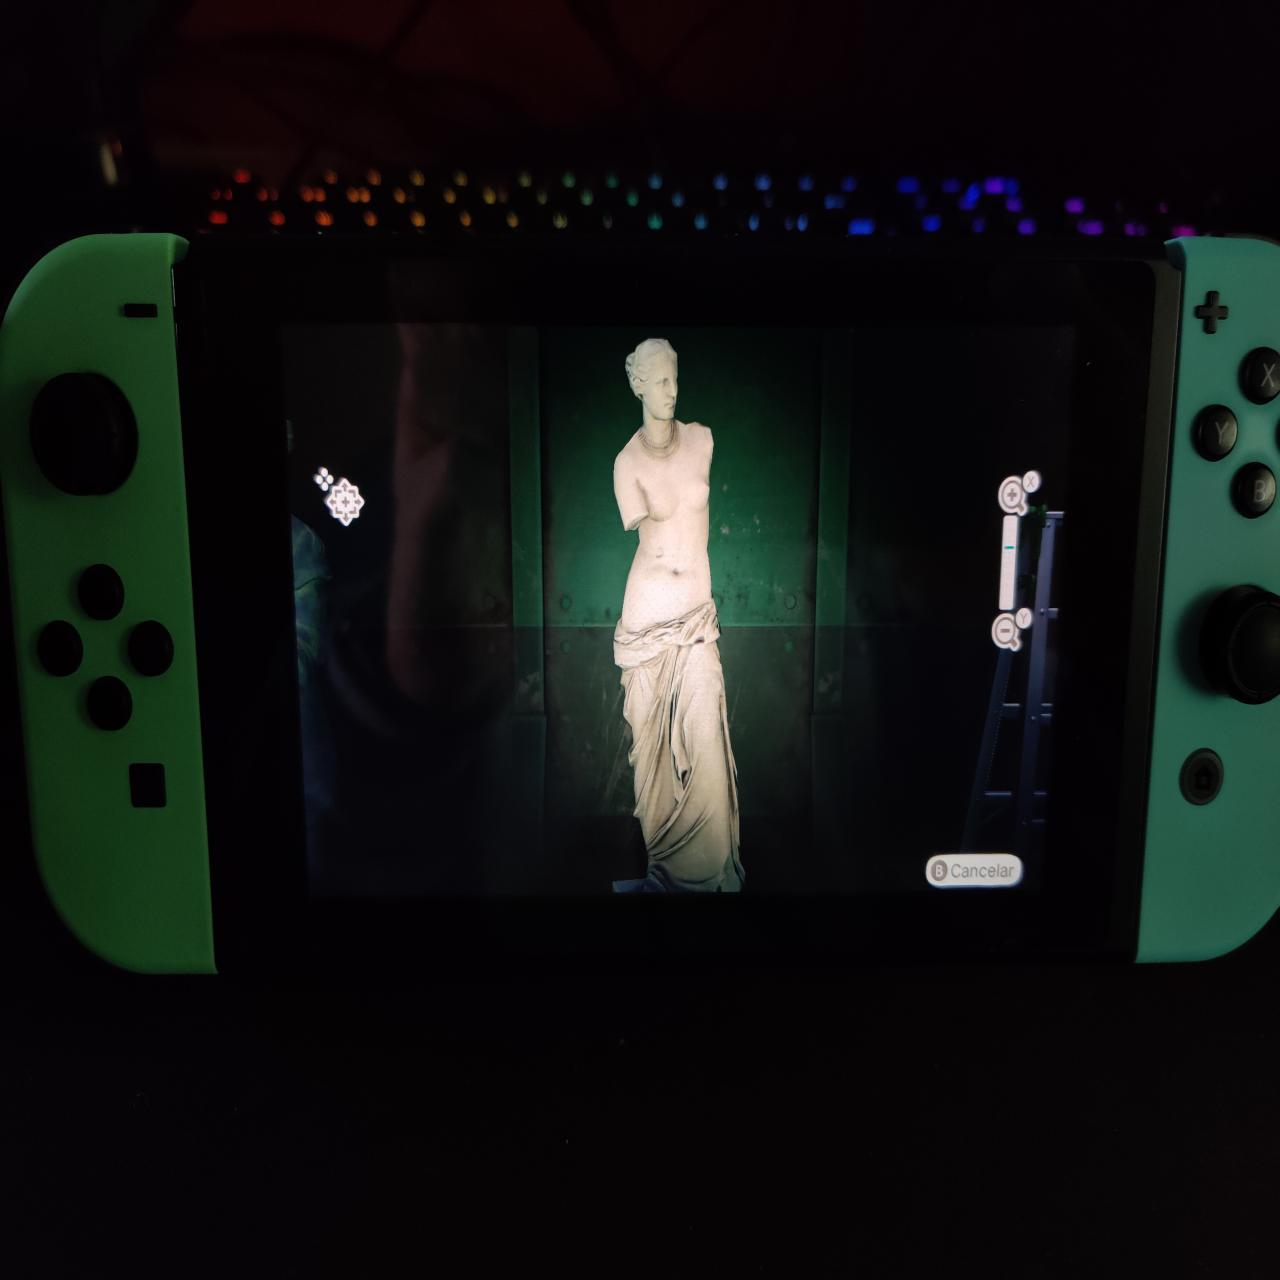MiloFake: (610, 338, 749, 899)
